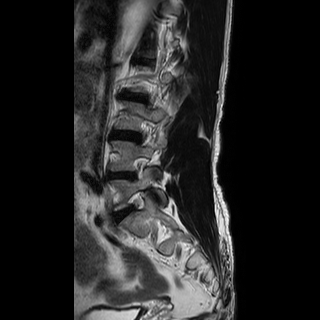RFS0: (128, 151, 156, 185), (124, 186, 153, 218)
